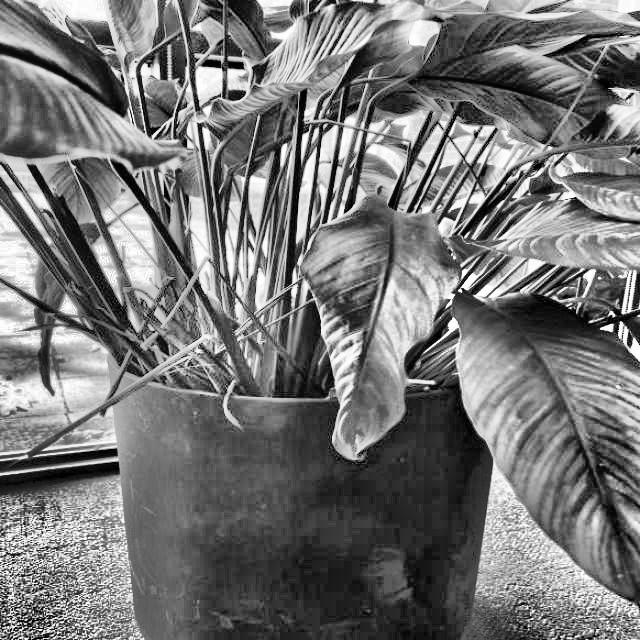plants: (0, 0, 545, 512)
